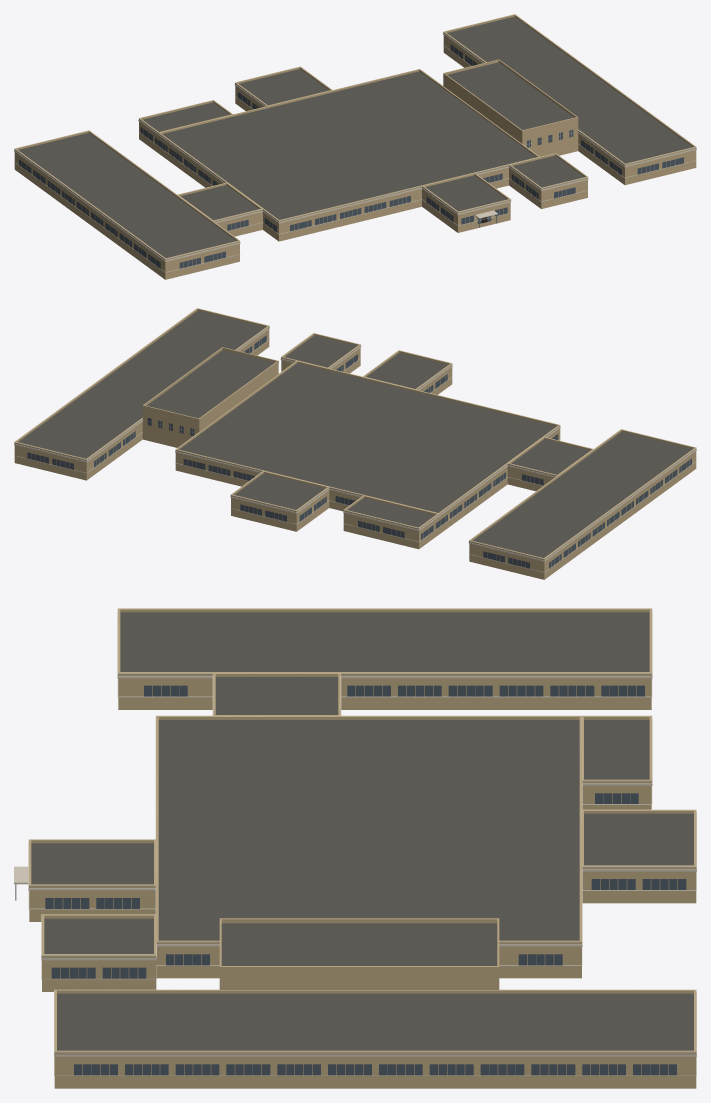
The model's file is mcclellan-high-school.glb.
3 renders of one model, top to bottom at view 1: azimuth 30°, elevation 25°; view 2: azimuth 150°, elevation 25°; view 3: azimuth 270°, elevation 25°, orthographic. The views are drawn at different scales.
Visible parts, largest first — view 1: mcclellan_high_school; view 2: mcclellan_high_school; view 3: mcclellan_high_school.
Part boxes in pixels (x1,y1,x2,y2): mcclellan_high_school: (14,14,696,279); mcclellan_high_school: (14,308,696,579); mcclellan_high_school: (14,608,696,1088).
Bounding box in the file's own units: 165 × 10.42 × 108.
